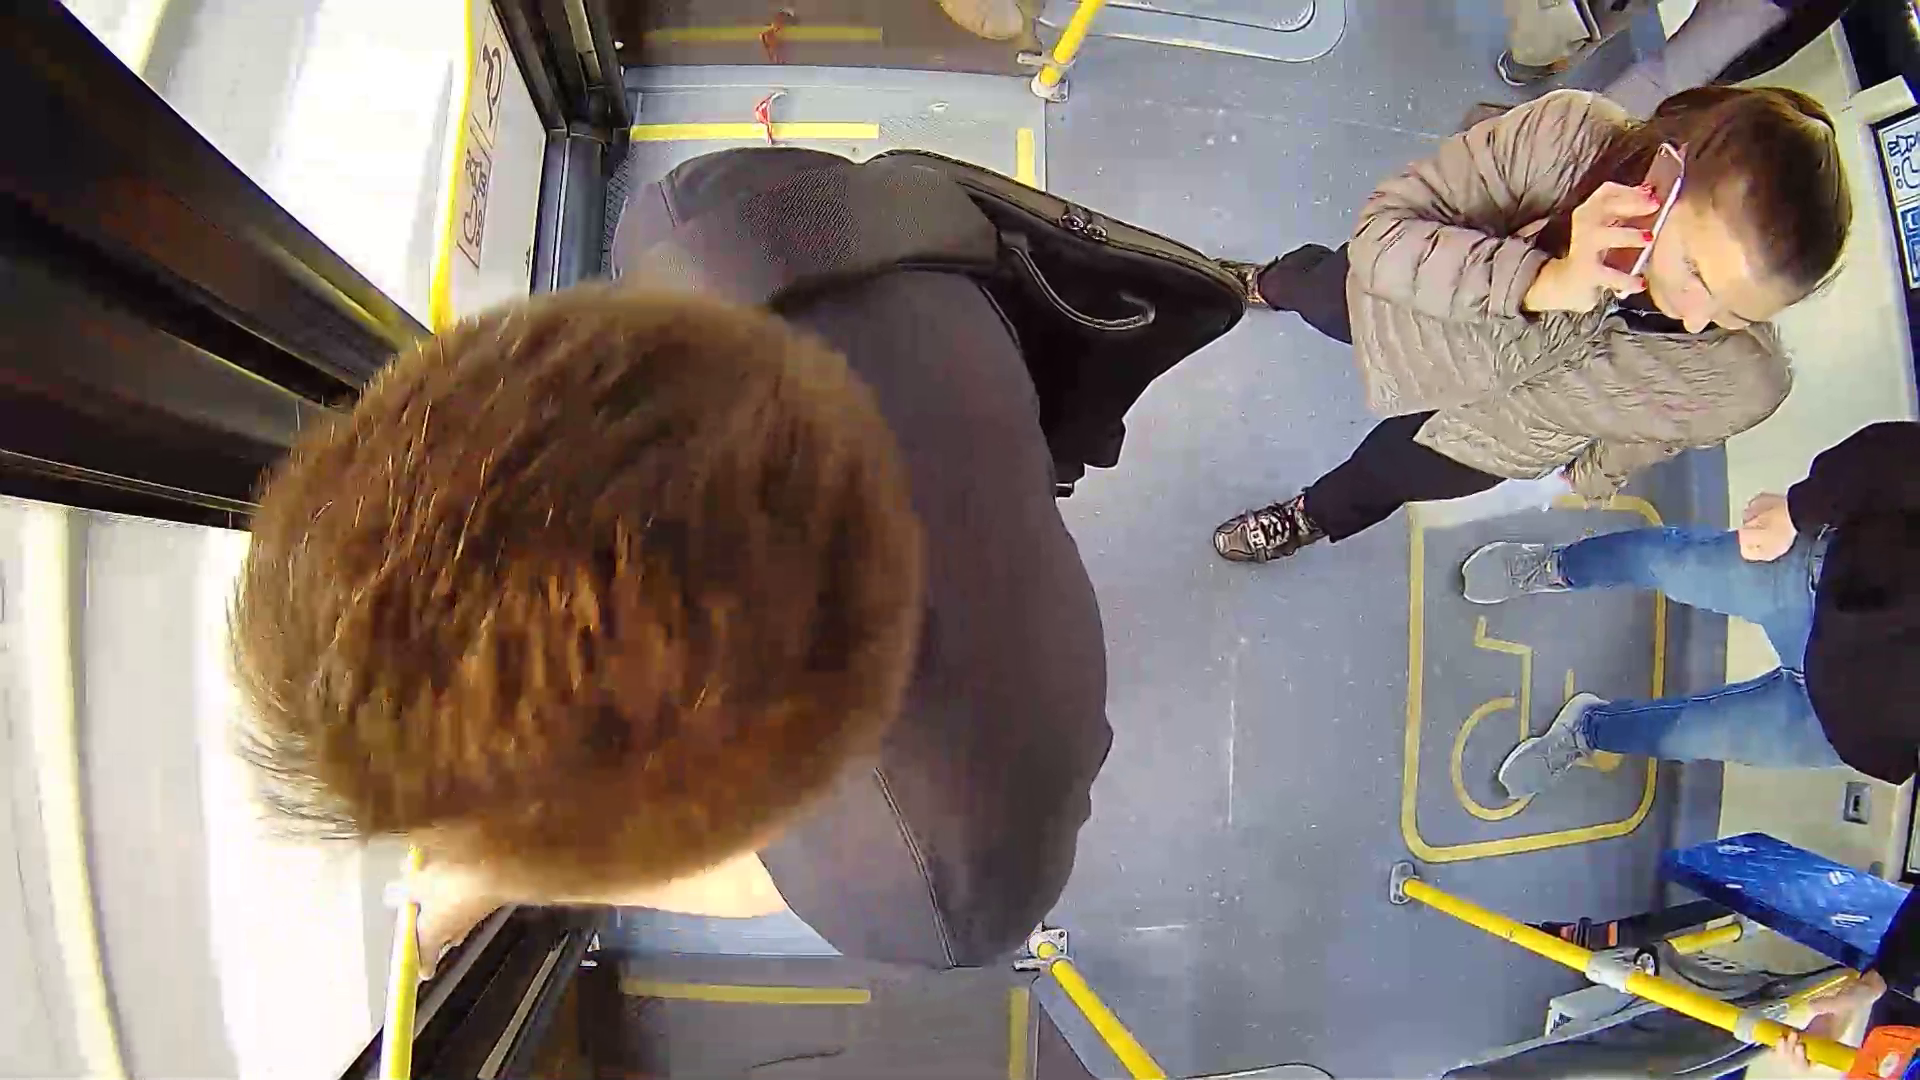person: (209, 95, 1186, 911), (1256, 72, 1871, 576)
